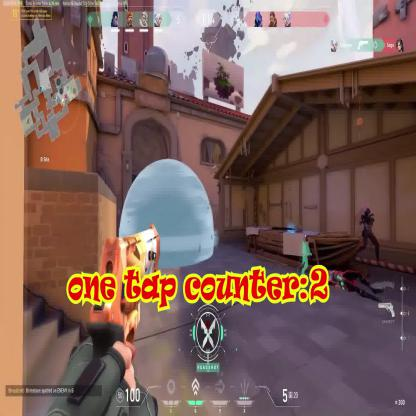enemy: (355, 205, 379, 260)
enemy_head: (364, 206, 370, 214)
